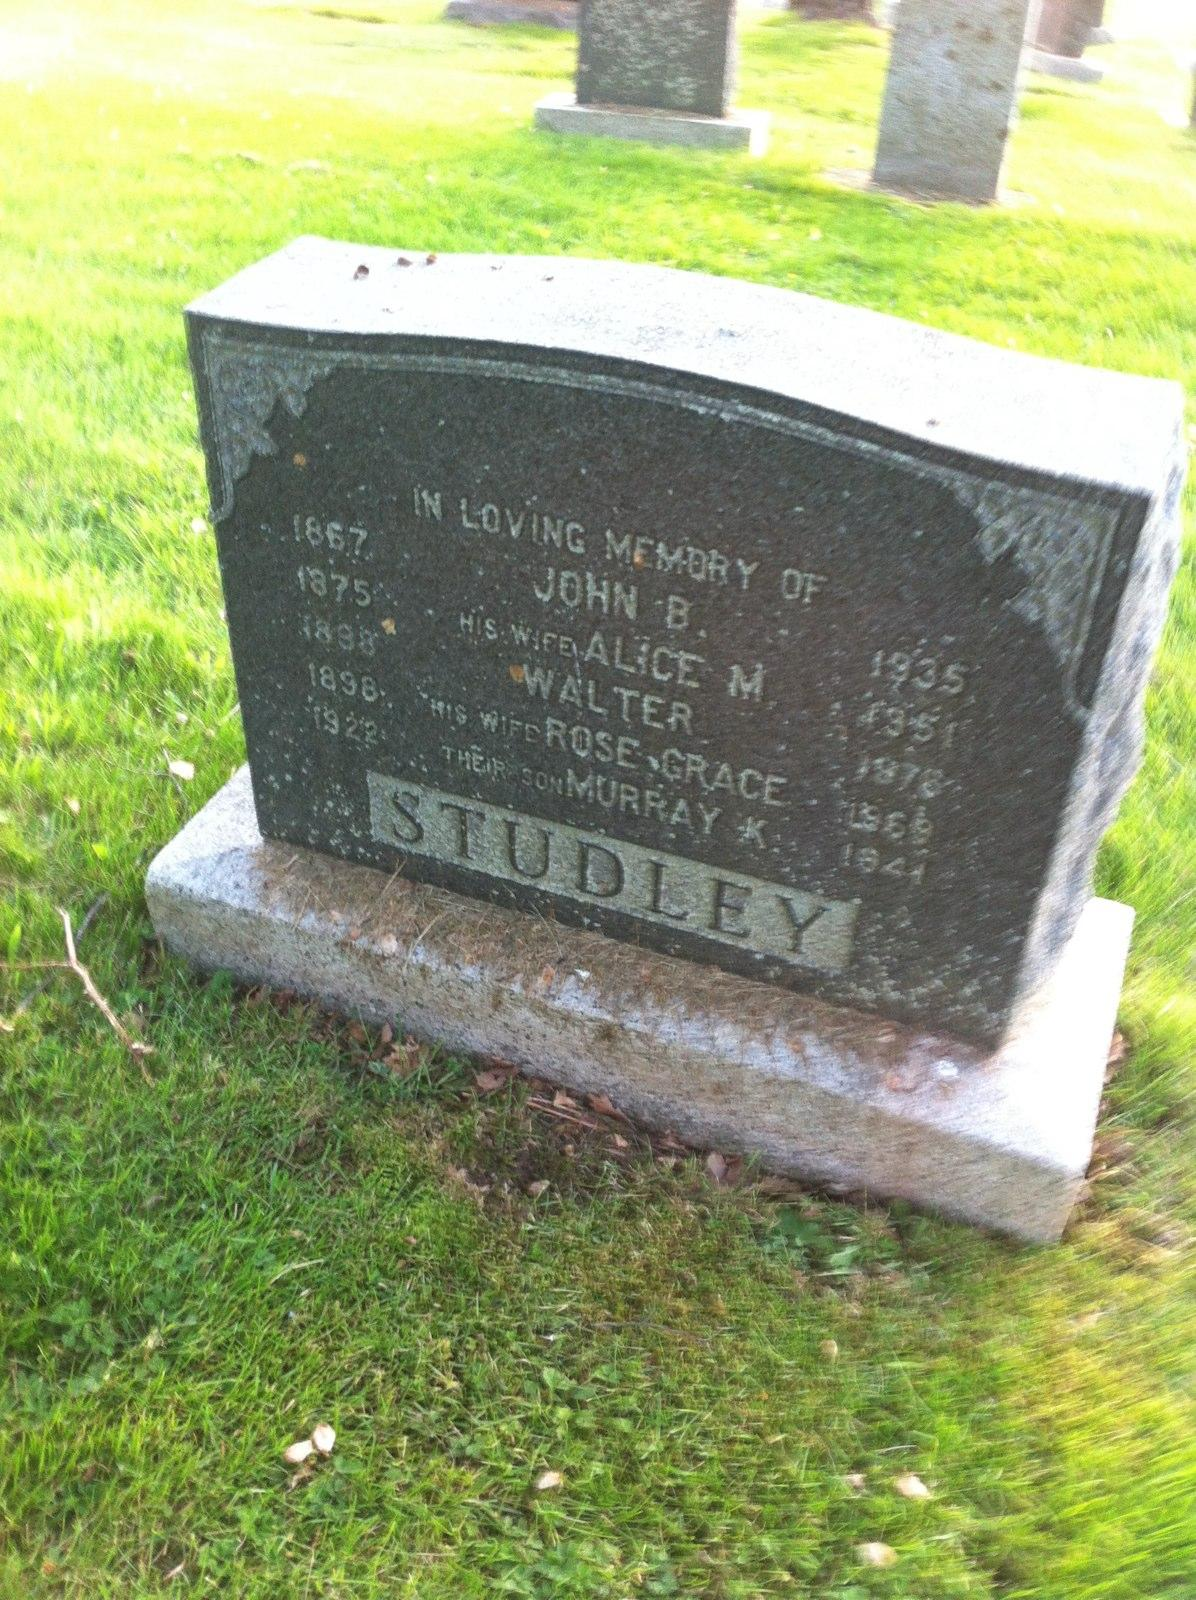upright: (139, 227, 1183, 1265)
